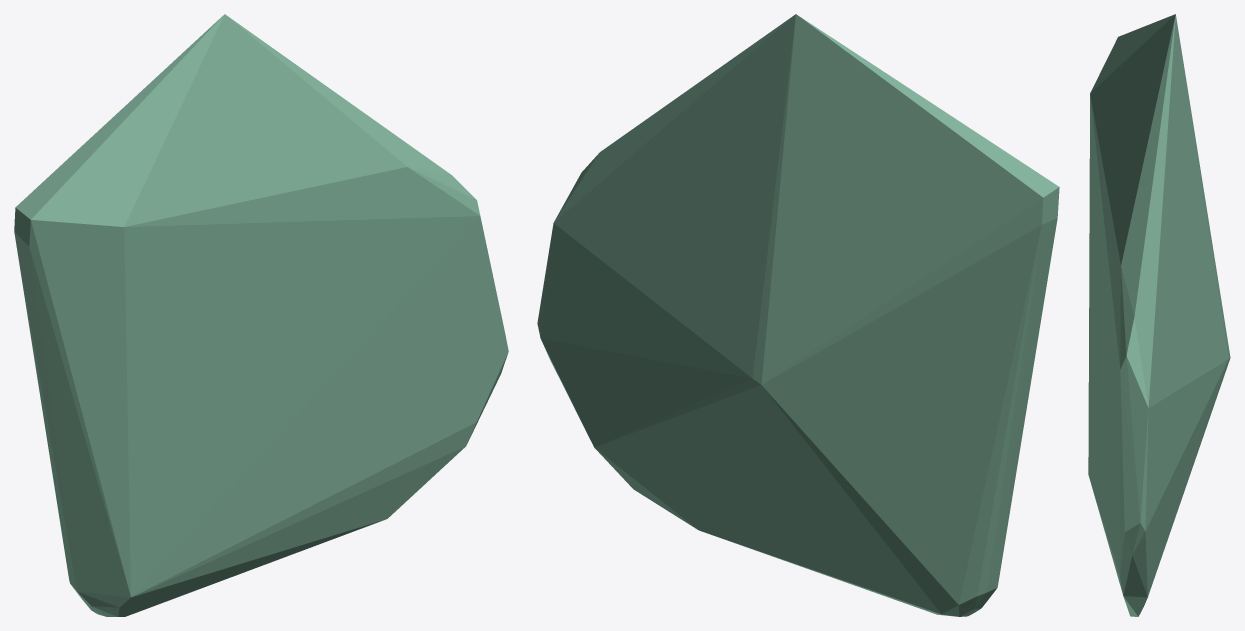
Rendered from serviceTool_pump_fluidTransferManual_a01.glb.
3 views of the same model, side by side, from view 1: azimuth 30°, elevation 25°; view 2: azimuth 150°, elevation 25°; view 3: azimuth 270°, elevation 25° (orthographic). The views are drawn at different scales.
Visible parts, largest first — view 1: geometry_0; view 2: geometry_0; view 3: geometry_0.
Boxes of the visible parts, box(x1,y1,x2,y2) form: geometry_0: box(14, 14, 508, 616); geometry_0: box(537, 14, 1059, 616); geometry_0: box(1088, 14, 1230, 616).
Bounding box in the file's own units: 0.444 × 0.4797 × 0.1105.
